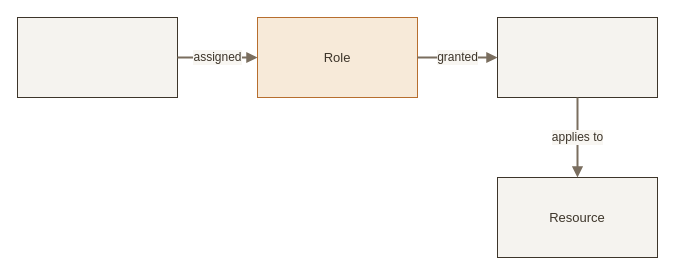
The diagram is 675 pixels wide and 275 high, and some of its shapes have lost their labels. The shapes that lost their labels are listed below. From the top down, each one's box as (x1, y1, x2, y2) in pixels, then its label:
(16, 16, 178, 98): User
(496, 16, 658, 98): Permission
